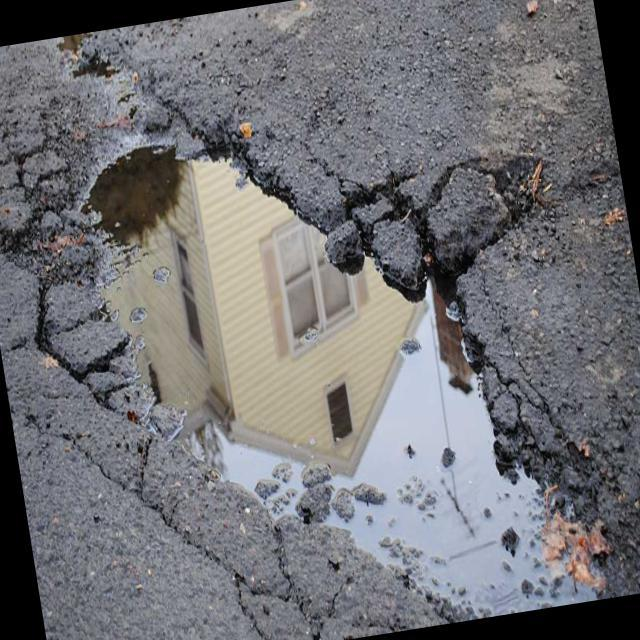Pothole: (68, 68, 598, 640)
